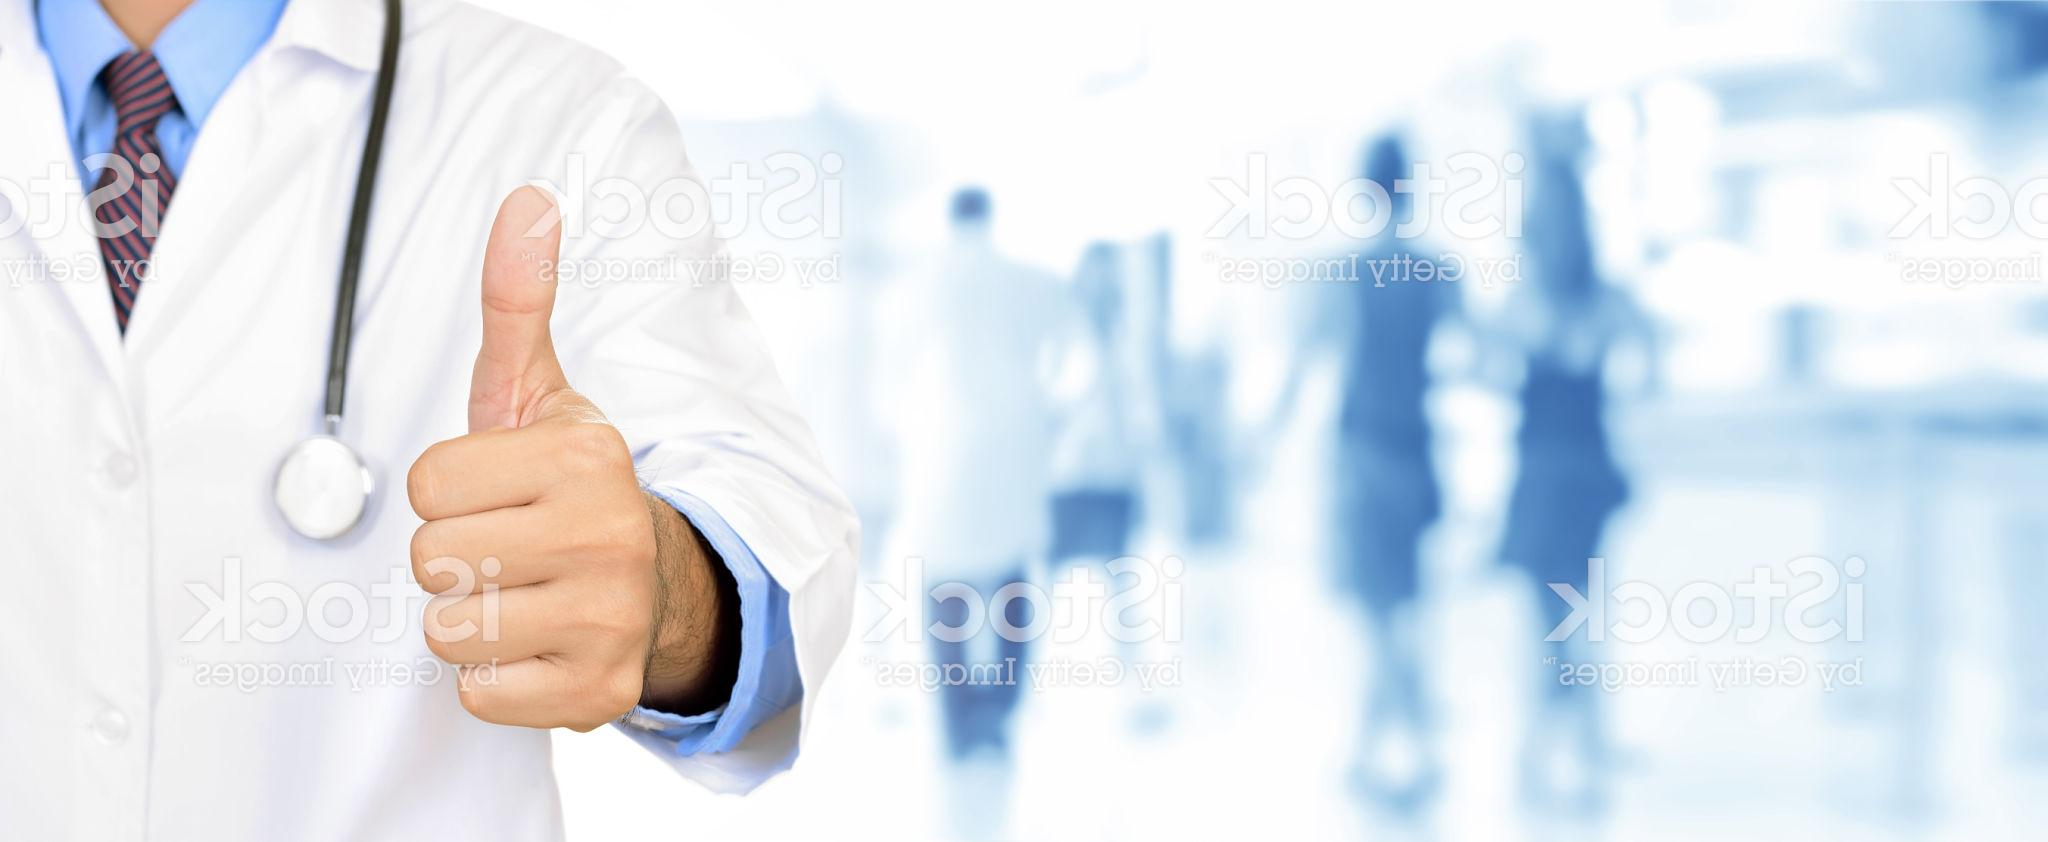thumbsup: (404, 180, 667, 738)
